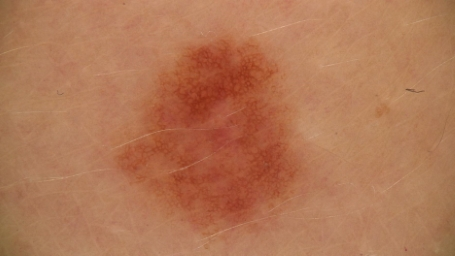nevus: (116, 41, 292, 231)
